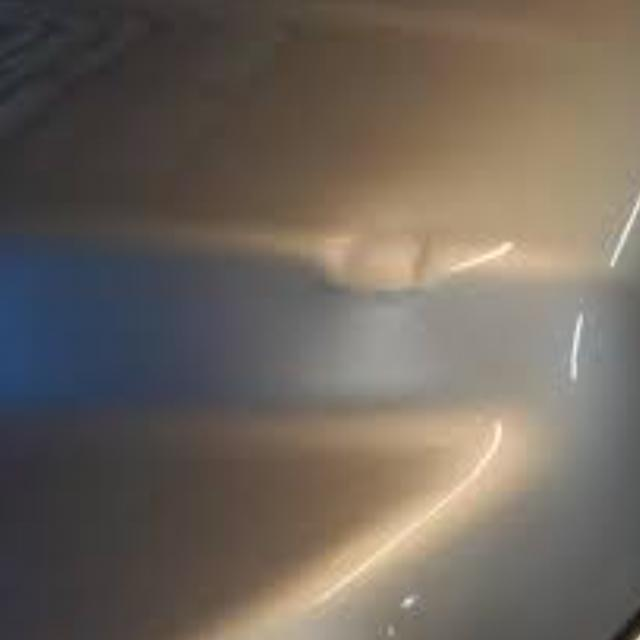dents: (313, 215, 462, 304)
